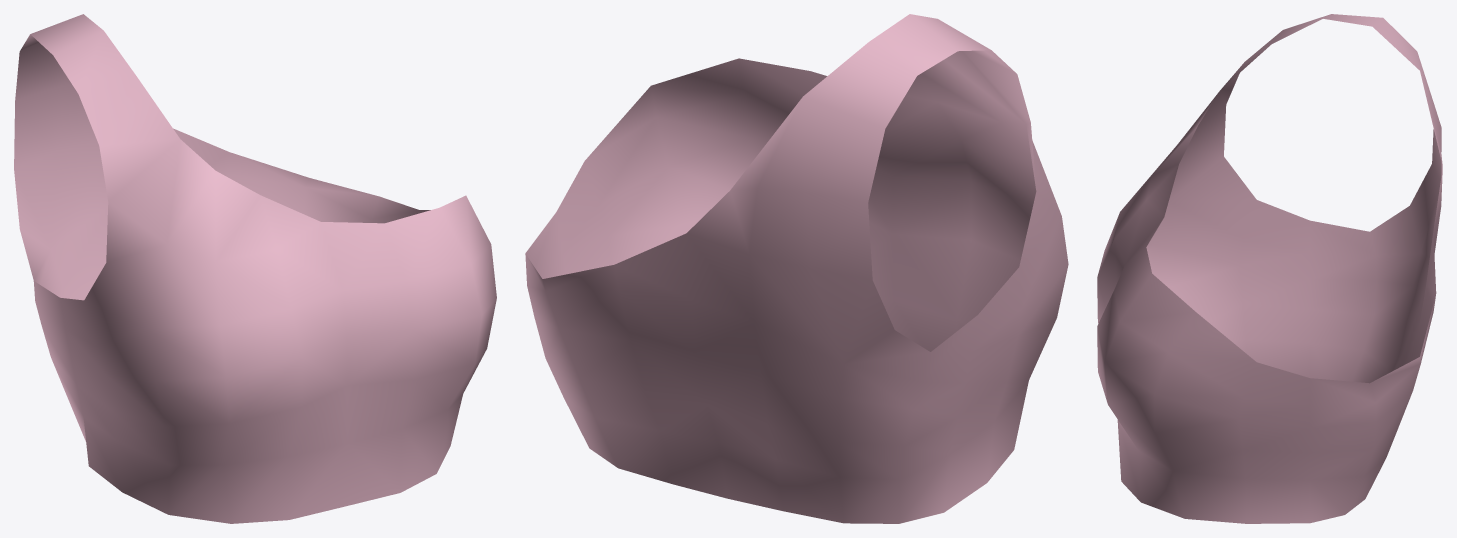
File: blouse_08.glb
3 renders of one model, left to right at view 1: azimuth 30°, elevation 25°; view 2: azimuth 150°, elevation 25°; view 3: azimuth 270°, elevation 25°, orthographic. The views are drawn at different scales.
Visible parts, largest first — view 1: blouse_08; view 2: blouse_08; view 3: blouse_08.
Boxes of the visible parts, box(x1,y1,x2,y2) form: blouse_08: box(14, 14, 496, 523); blouse_08: box(525, 14, 1068, 523); blouse_08: box(1097, 14, 1442, 523).
Size of the model in its own units: 0.2752 by 0.3019 by 0.2475.
